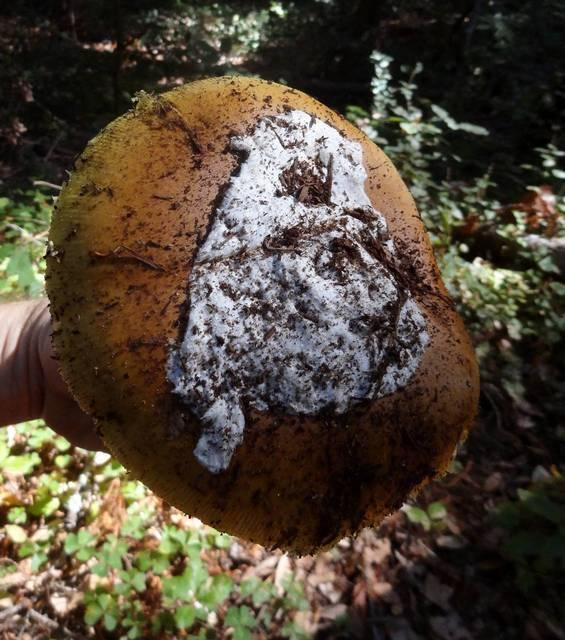Edible Mushroom: (42, 73, 481, 557)
